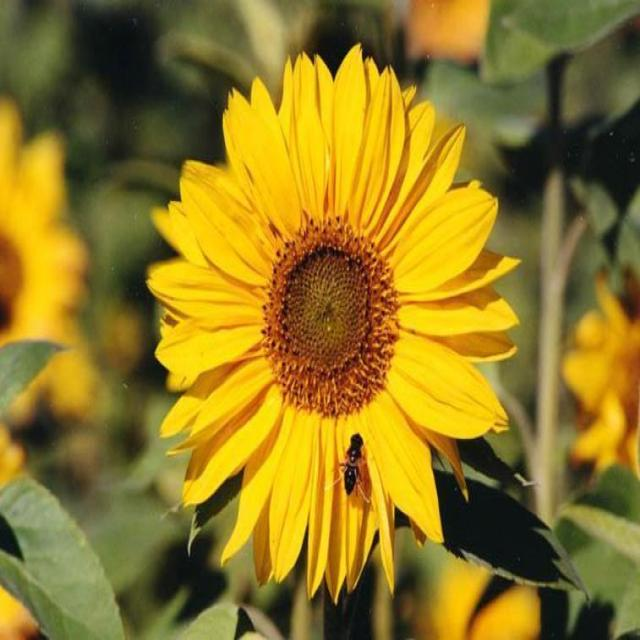sunflower: (135, 49, 528, 590)
